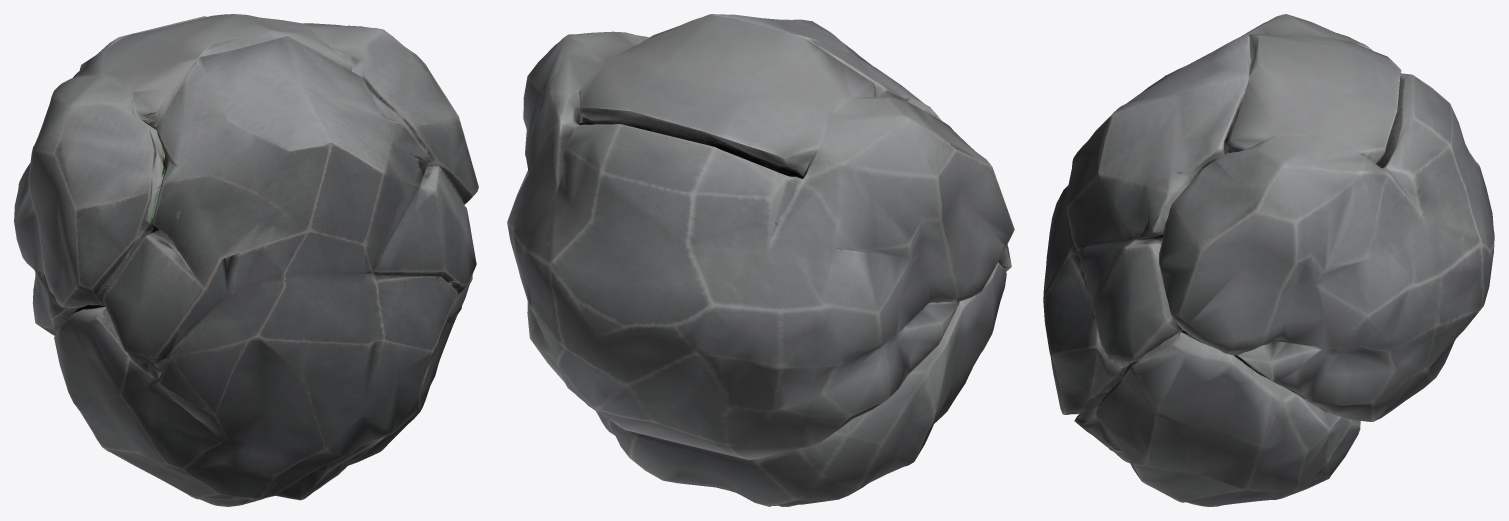
The model's file is 04_drift_rock_cracked.fbx.
The picture shows the model from 3 angles, left to right: view 1: azimuth 30°, elevation 25°; view 2: azimuth 150°, elevation 25°; view 3: azimuth 270°, elevation 25°; orthographic projection. The views are drawn at different scales.
Parts seen in each view (by area): view 1: 04_drift_rock_cracked; view 2: 04_drift_rock_cracked; view 3: 04_drift_rock_cracked.
Part boxes in pixels (x1,y1,x2,y2): 04_drift_rock_cracked: [14, 14, 478, 506]; 04_drift_rock_cracked: [507, 14, 1014, 506]; 04_drift_rock_cracked: [1043, 14, 1494, 506].
Bounding box in the file's own units: 1.13 × 1.2 × 1.11.
1 material, 1 textured.
